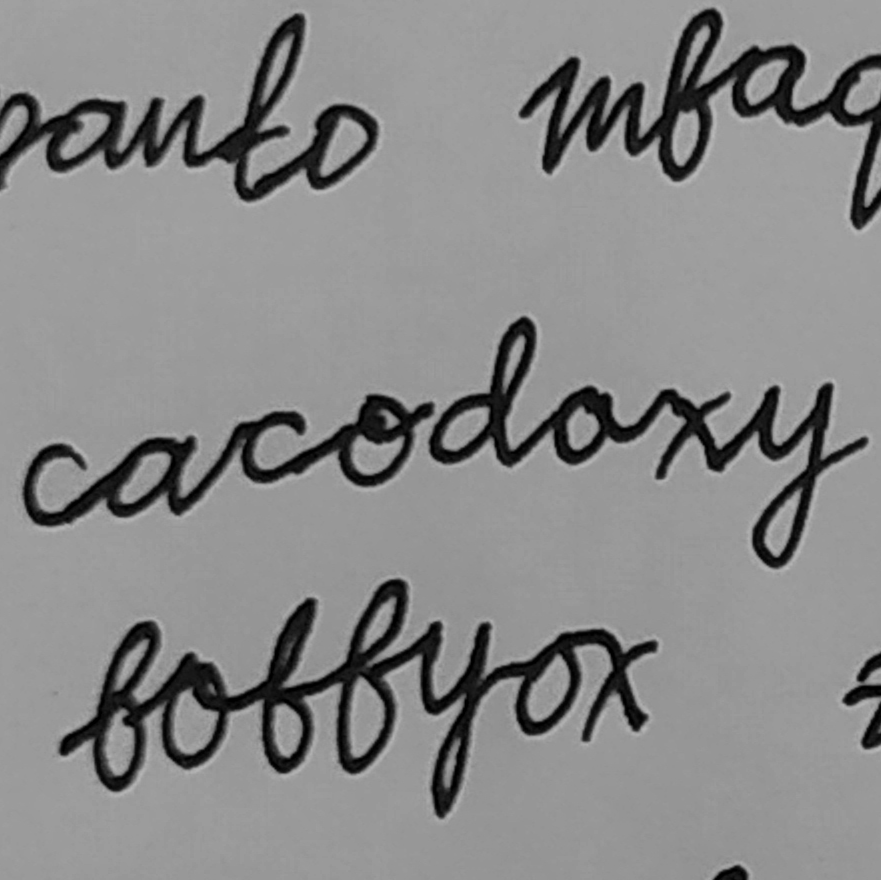a: (99, 428, 204, 524)
c: (221, 402, 314, 488), (16, 436, 97, 533)
d: (425, 311, 542, 468)
o: (327, 388, 422, 488), (543, 377, 620, 470)
x: (642, 381, 737, 484)
y: (741, 375, 839, 573)
